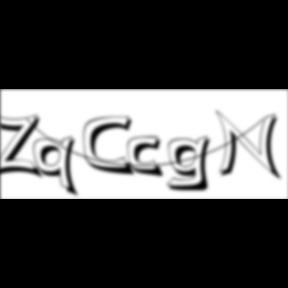C: (84, 115, 138, 178)
N: (215, 109, 285, 183)
Z: (0, 112, 46, 181)
c: (128, 136, 168, 180)
g: (166, 134, 218, 194)
q: (34, 135, 83, 200)
